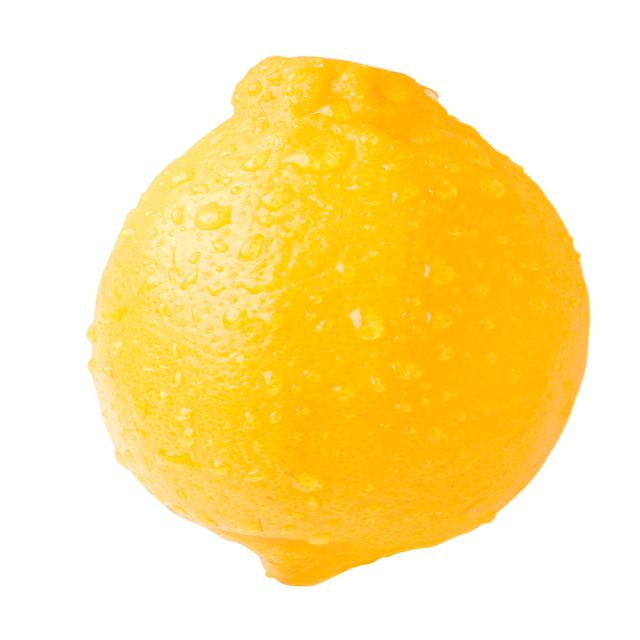lemon: (87, 54, 602, 603)
